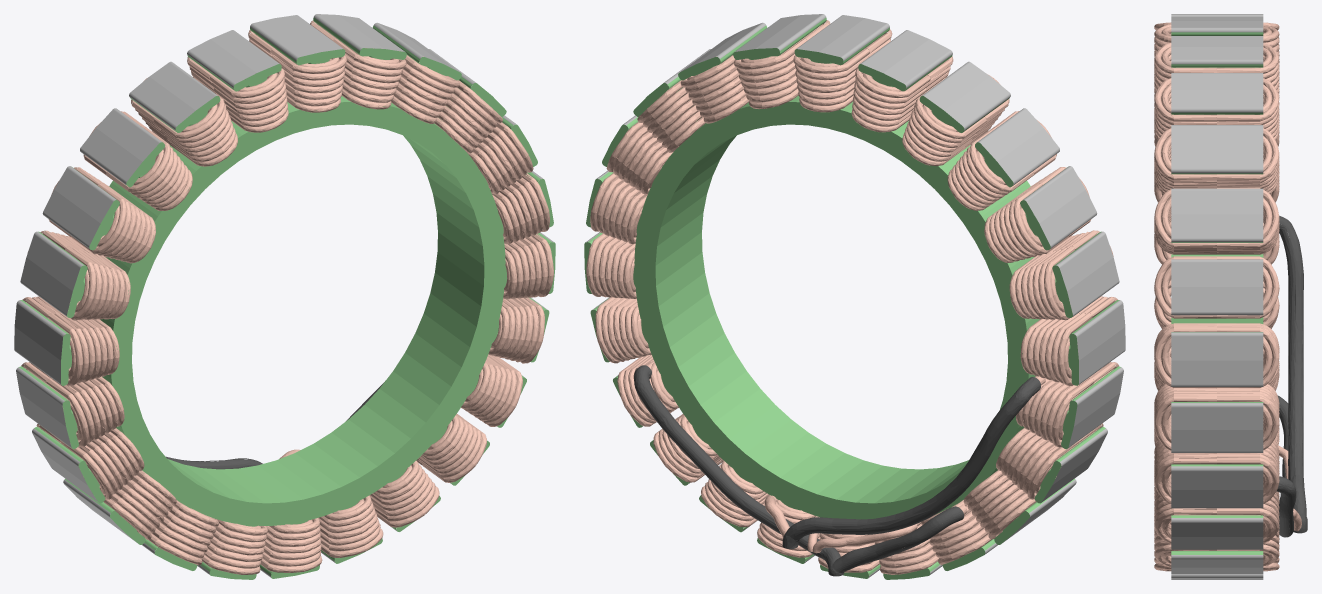
Rendered from stator-windings.glb.
3 renders of one model, left to right at view 1: azimuth 30°, elevation 25°; view 2: azimuth 150°, elevation 25°; view 3: azimuth 270°, elevation 25°, orthographic.
Visible parts, largest first — view 1: wx_motorWinding; view 2: wx_motorWinding; view 3: wx_motorWinding.
Boxes of the visible parts, left/top/right/bottom form: wx_motorWinding: left=14, top=14, right=555, bottom=579; wx_motorWinding: left=584, top=14, right=1125, bottom=579; wx_motorWinding: left=1154, top=14, right=1307, bottom=579.
Bounding box in the file's own units: 64.54 × 64.54 × 17.52.
